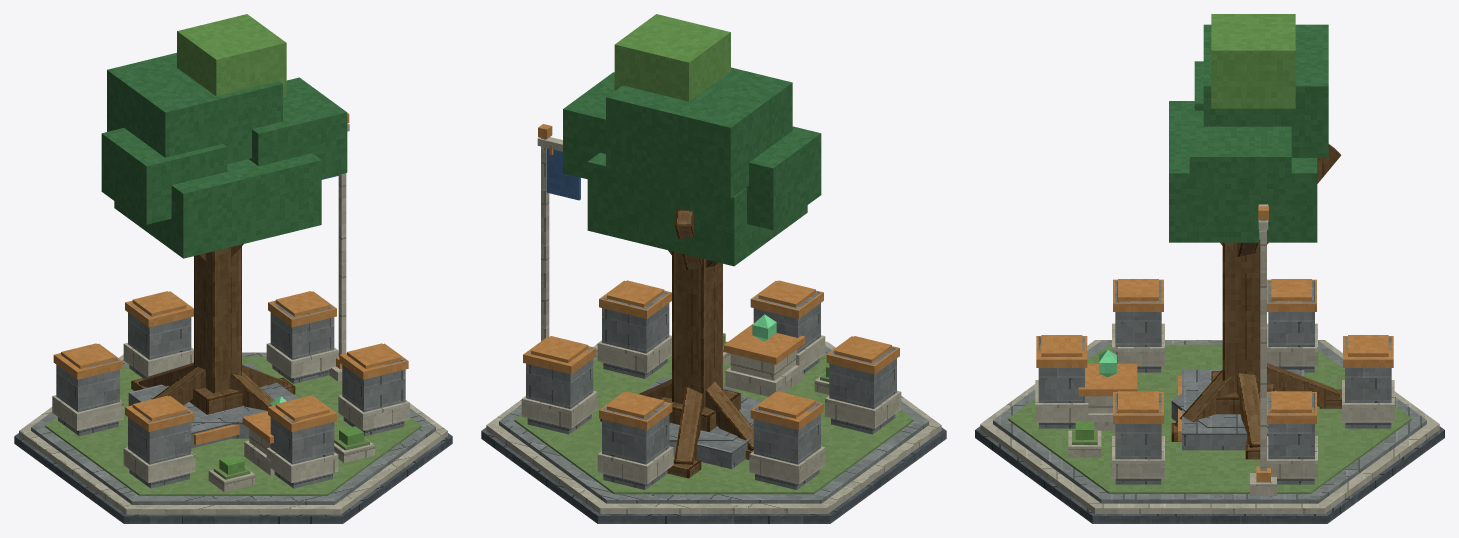
The model's file is dwarf_druidic_ritual_hex_v1.glb.
3 views of the same model, side by side, from view 1: azimuth 30°, elevation 25°; view 2: azimuth 150°, elevation 25°; view 3: azimuth 270°, elevation 25° (orthographic). The views are drawn at different scales.
Parts seen in each view (by area): view 1: Dwarf_Druidic_Ritual_Hex_V1_Focus, Dwarf_Druidic_Ritual_Hex_V1_Hall, Dwarf_Druidic_Ritual_Hex_V1_Foundation, Dwarf_Druidic_Ritual_Hex_V1_Courtyard, Dwarf_Druidic_Ritual_Hex_V1_Roofs, Dwarf_Druidic_Ritual_Hex_V1_Training, Dwarf_Druidic_Ritual_Hex_V1_Faction, Dwarf_Druidic_Ritual_Hex_V1_Details; view 2: Dwarf_Druidic_Ritual_Hex_V1_Focus, Dwarf_Druidic_Ritual_Hex_V1_Hall, Dwarf_Druidic_Ritual_Hex_V1_Foundation, Dwarf_Druidic_Ritual_Hex_V1_Courtyard, Dwarf_Druidic_Ritual_Hex_V1_Roofs, Dwarf_Druidic_Ritual_Hex_V1_Training, Dwarf_Druidic_Ritual_Hex_V1_Faction; view 3: Dwarf_Druidic_Ritual_Hex_V1_Focus, Dwarf_Druidic_Ritual_Hex_V1_Hall, Dwarf_Druidic_Ritual_Hex_V1_Foundation, Dwarf_Druidic_Ritual_Hex_V1_Courtyard, Dwarf_Druidic_Ritual_Hex_V1_Roofs, Dwarf_Druidic_Ritual_Hex_V1_Training, Dwarf_Druidic_Ritual_Hex_V1_Faction.
Part boxes in pixels (left/top/right/bottom): Dwarf_Druidic_Ritual_Hex_V1_Focus: left=101, top=14, right=347, bottom=448; Dwarf_Druidic_Ritual_Hex_V1_Hall: left=52, top=291, right=409, bottom=488; Dwarf_Druidic_Ritual_Hex_V1_Foundation: left=14, top=352, right=452, bottom=523; Dwarf_Druidic_Ritual_Hex_V1_Courtyard: left=45, top=356, right=421, bottom=495; Dwarf_Druidic_Ritual_Hex_V1_Roofs: left=61, top=291, right=400, bottom=421; Dwarf_Druidic_Ritual_Hex_V1_Training: left=208, top=411, right=374, bottom=491; Dwarf_Druidic_Ritual_Hex_V1_Faction: left=321, top=113, right=349, bottom=381; Dwarf_Druidic_Ritual_Hex_V1_Details: left=194, top=424, right=239, bottom=444; Dwarf_Druidic_Ritual_Hex_V1_Focus: left=563, top=14, right=821, bottom=478; Dwarf_Druidic_Ritual_Hex_V1_Hall: left=521, top=280, right=901, bottom=489; Dwarf_Druidic_Ritual_Hex_V1_Foundation: left=481, top=341, right=946, bottom=523; Dwarf_Druidic_Ritual_Hex_V1_Courtyard: left=514, top=354, right=913, bottom=494; Dwarf_Druidic_Ritual_Hex_V1_Roofs: left=531, top=280, right=891, bottom=418; Dwarf_Druidic_Ritual_Hex_V1_Training: left=723, top=324, right=829, bottom=396; Dwarf_Druidic_Ritual_Hex_V1_Faction: left=537, top=124, right=580, bottom=340; Dwarf_Druidic_Ritual_Hex_V1_Focus: left=1099, top=14, right=1341, bottom=459; Dwarf_Druidic_Ritual_Hex_V1_Hall: left=1035, top=279, right=1394, bottom=484; Dwarf_Druidic_Ritual_Hex_V1_Foundation: left=975, top=340, right=1444, bottom=523; Dwarf_Druidic_Ritual_Hex_V1_Courtyard: left=1008, top=344, right=1411, bottom=493; Dwarf_Druidic_Ritual_Hex_V1_Roofs: left=1041, top=279, right=1388, bottom=412; Dwarf_Druidic_Ritual_Hex_V1_Training: left=1068, top=359, right=1137, bottom=457; Dwarf_Druidic_Ritual_Hex_V1_Faction: left=1250, top=204, right=1276, bottom=495.
Size of the model in its own units: 1.59 by 1.79 by 1.84.
Materials: 1 (1 with a texture image).
